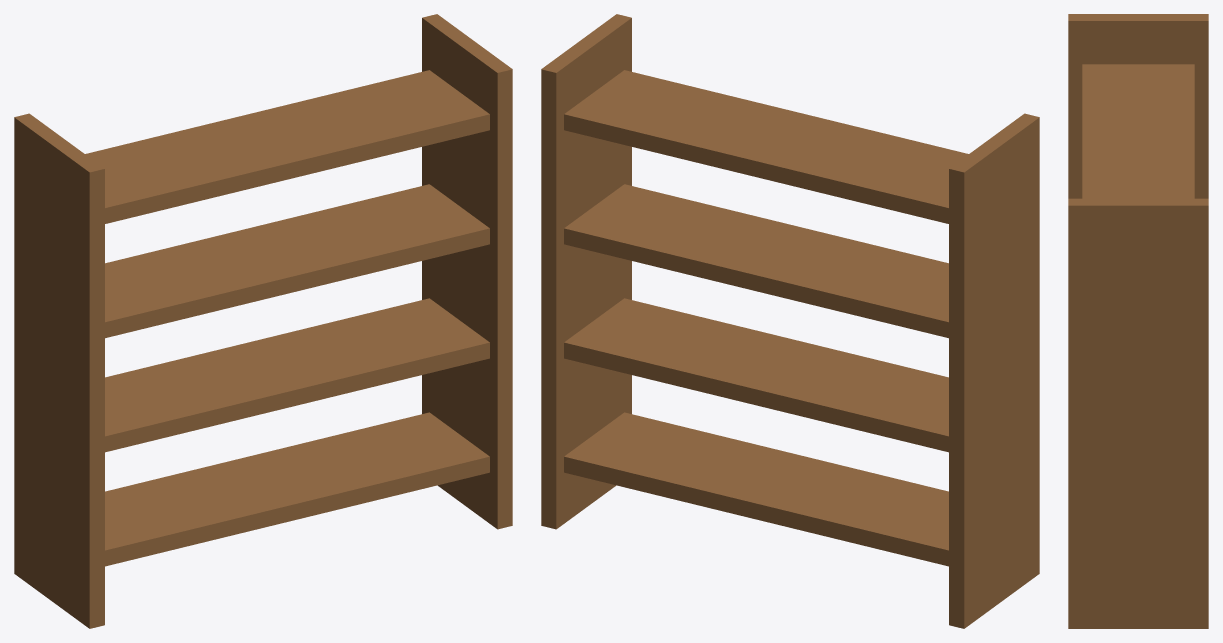
Rendered from shelf.gltf.
The picture shows the model from 3 angles, left to right: view 1: azimuth 30°, elevation 25°; view 2: azimuth 150°, elevation 25°; view 3: azimuth 270°, elevation 25°; orthographic projection. The views are drawn at different scales.
Visible parts, largest first — view 1: Cube.001, Cube; view 2: Cube.001, Cube; view 3: Cube, Cube.001.
Boxes of the visible parts, x1,y1,x2,y2 form: Cube.001: [85, 70, 489, 566]; Cube: [14, 14, 512, 628]; Cube.001: [564, 70, 968, 566]; Cube: [541, 14, 1039, 628]; Cube: [1068, 14, 1208, 628]; Cube.001: [1082, 64, 1194, 198].
Bounding box in the file's own units: 1.94 × 2 × 0.6.
1 material, 1 textured.
